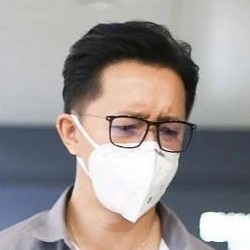mask: (62, 132, 181, 226)
